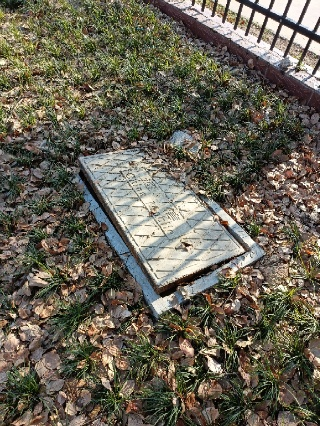well: (69, 147, 268, 306)
